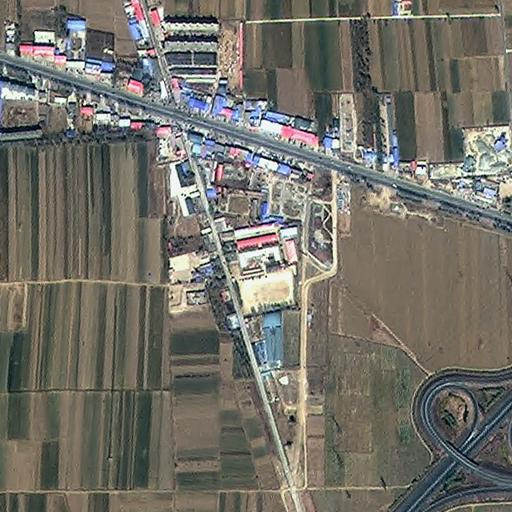school: (220, 220, 305, 311)
